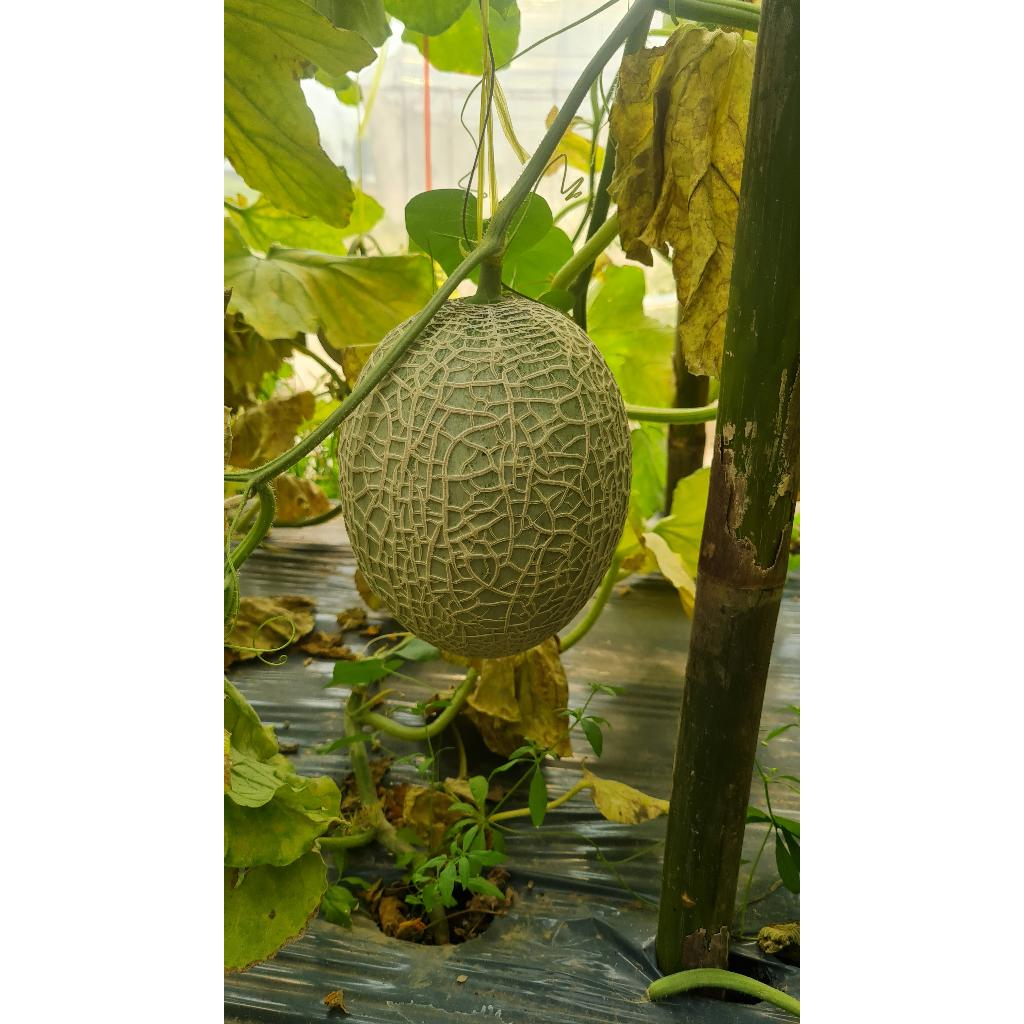melon: (338, 296, 632, 658)
